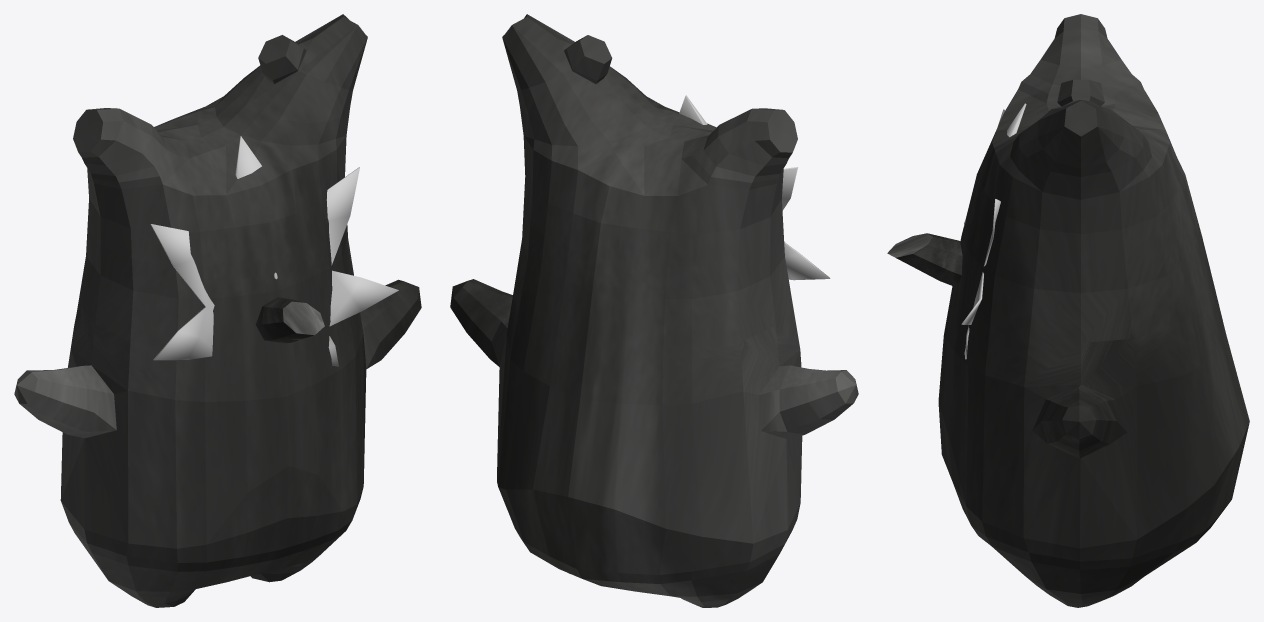
File: frame_0072.obj
The picture shows the model from 3 angles, left to right: view 1: azimuth 30°, elevation 25°; view 2: azimuth 150°, elevation 25°; view 3: azimuth 270°, elevation 25°; orthographic projection.
Visible parts, largest first — view 1: korok, leaf.003_柱体.013, nose.003_柱体.011; view 2: korok, leaf.003_柱体.013; view 3: korok, nose.003_柱体.011, leaf.003_柱体.013.
Boxes of the visible parts, <box> form: korok: <box>14,14,421,607</box>; leaf.003_柱体.013: <box>150,136,398,366</box>; nose.003_柱体.011: <box>255,297,324,343</box>; korok: <box>450,14,858,607</box>; leaf.003_柱体.013: <box>679,95,830,280</box>; korok: <box>938,14,1249,607</box>; nose.003_柱体.011: <box>887,233,962,287</box>; leaf.003_柱体.013: <box>961,103,1026,359</box>.
Bounding box in the file's own units: 1.73 × 2.23 × 1.36.
